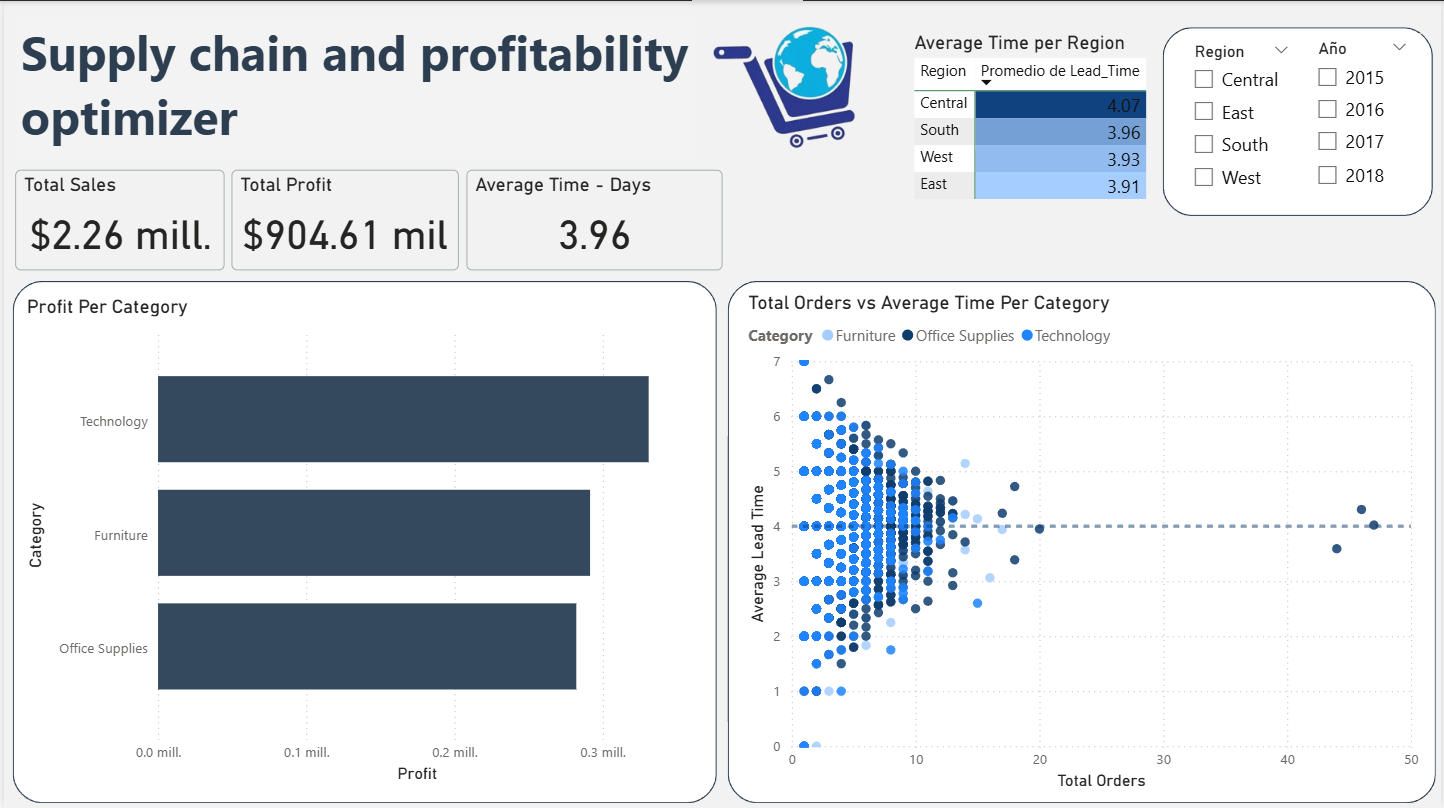

The page's visual inventory and layout, read from the dashboard file:
{"tool":"powerbi","page":{"name":"Página 1","canvas":[1280,720],"ordinal":0},"visuals":[{"type":"shape","box":[1032.2,23.3,240.5,168.1],"z":0},{"type":"shape","box":[644.2,248.9,630.7,465],"z":1000},{"type":"shape","box":[7.4,249.1,627,465],"z":2000},{"type":"card","title":"Total Sales","fields":{"Values":["Sum(Superstore Sales Dataset.Sales)"]},"box":[9.8,150.7,186.5,89.6],"z":3000},{"type":"card","title":"Total Profit","fields":{"Values":["Sum(Superstore Sales Dataset.Profit)"]},"box":[202.5,150.7,202.5,89.6],"z":4000},{"type":"card","title":"Average Time - Days","fields":{"Values":["Avg(Superstore Sales Dataset.Lead_Time)"]},"box":[412.3,150.7,228.2,89.6],"z":5000},{"type":"clusteredBarChart","title":"Profit Per Category","fields":{"Category":["Superstore Sales Dataset.Category"],"Y":["Sum(Superstore Sales Dataset.Profit)"]},"box":[16,261.4,609.8,439.3],"z":6000},{"type":"pivotTable","title":"Average Time per Region","fields":{"Rows":["Superstore Sales Dataset.Region"],"Values":["Avg(Superstore Sales Dataset.Lead_Time)"]},"box":[806.5,27,230.7,163.2],"z":7000},{"type":"scatterChart","title":"Total Orders vs Average Time Per Category","fields":{"Category":["Superstore Sales Dataset.Product Name"],"X":["Superstore Sales Dataset.Total_Orders"],"Y":["Avg(Superstore Sales Dataset.Lead_Time)"],"Series":["Superstore Sales Dataset.Category"]},"box":[657.7,258.7,607.4,449.1],"z":8000},{"type":"slicer","fields":{"Values":["Superstore Sales Dataset.Region"]},"box":[1048,30.7,109.2,150.9],"z":9000},{"type":"slicer","fields":{"Values":["Superstore Sales Dataset.Order Date.Variación.Jerarquía de fechas.Año"]},"box":[1157.2,29.4,104.3,152.1],"z":10000},{"type":"textbox","box":[9.8,11,607.4,128.8],"z":11000},{"type":"image","box":[614.7,1.2,190.2,149.7],"z":11001}]}

Visuals, with their boxes in screenshot pixels (x1, y1, x2, y2), scaled from the page's 1280x720 canvas onto the 1444x808 screenshot:
shape: left=1164, top=26, right=1436, bottom=215
shape: left=727, top=279, right=1438, bottom=801
shape: left=8, top=280, right=716, bottom=801
"Total Sales" card: left=11, top=169, right=221, bottom=270
"Total Profit" card: left=228, top=169, right=457, bottom=270
"Average Time - Days" card: left=465, top=169, right=723, bottom=270
"Profit Per Category" clusteredBarChart: left=18, top=293, right=706, bottom=786
"Average Time per Region" pivotTable: left=910, top=30, right=1170, bottom=213
"Total Orders vs Average Time Per Category" scatterChart: left=742, top=290, right=1427, bottom=794
slicer - Superstore Sales Dataset.Region: left=1182, top=34, right=1305, bottom=204
slicer - Superstore Sales Dataset.Order Date.Variación.Jerarquía de fechas.Año: left=1305, top=33, right=1423, bottom=204
textbox: left=11, top=12, right=696, bottom=157
image: left=693, top=1, right=908, bottom=169
